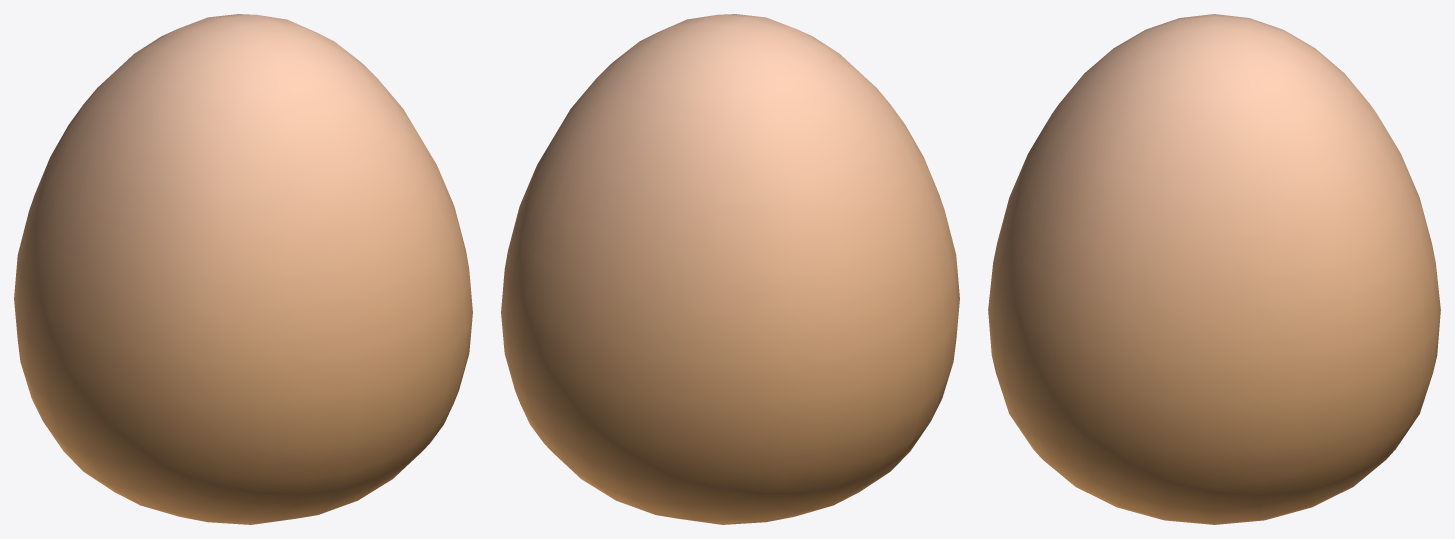
The model's file is SM_Egg.fbx.
3 renders of one model, left to right at view 1: azimuth 30°, elevation 25°; view 2: azimuth 150°, elevation 25°; view 3: azimuth 270°, elevation 25°, orthographic.
Parts seen in each view (by area): view 1: SM_Egg; view 2: SM_Egg; view 3: SM_Egg.
Boxes of the visible parts, box(x1,y1,x2,y2) form: SM_Egg: box(14, 14, 472, 524); SM_Egg: box(501, 14, 959, 524); SM_Egg: box(988, 14, 1440, 524).
Size of the model in its own units: 70 by 80 by 70.
